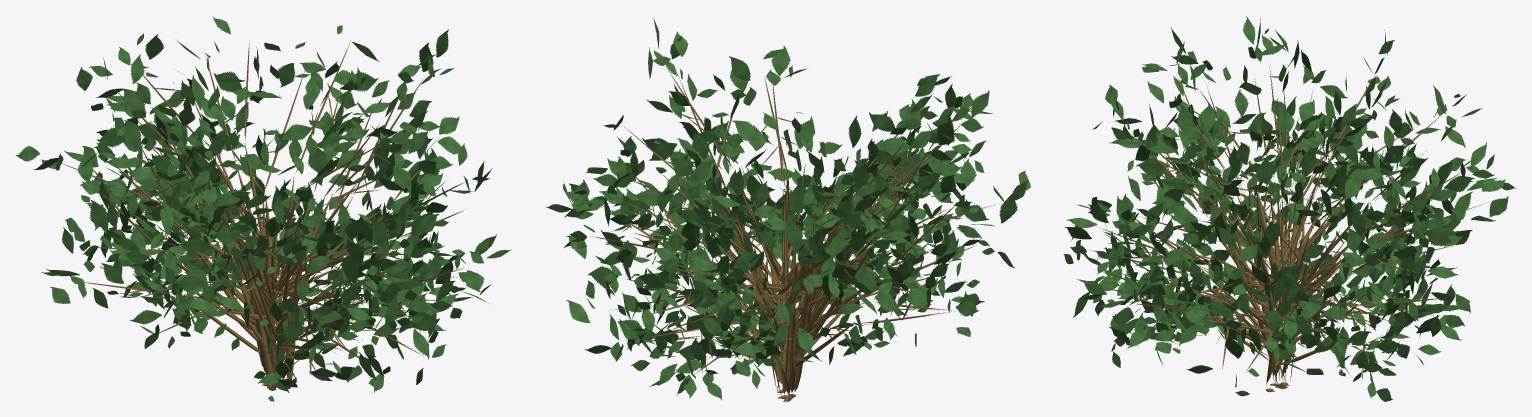
The model's file is SHRUB_05_Woodland_Mixed.glb.
The picture shows the model from 3 angles, left to right: view 1: azimuth 30°, elevation 25°; view 2: azimuth 150°, elevation 25°; view 3: azimuth 270°, elevation 25°; orthographic projection. The views are drawn at different scales.
Visible parts, largest first — view 1: SHRUB_05_Woodland_Mixed__FoliageCards, SHRUB_05_Woodland_Mixed__WoodyStems; view 2: SHRUB_05_Woodland_Mixed__FoliageCards, SHRUB_05_Woodland_Mixed__WoodyStems; view 3: SHRUB_05_Woodland_Mixed__FoliageCards, SHRUB_05_Woodland_Mixed__WoodyStems.
Part boxes in pixels (x1=…): SHRUB_05_Woodland_Mixed__FoliageCards: x1=16, y1=17, x2=511, y2=401; SHRUB_05_Woodland_Mixed__WoodyStems: x1=62, y1=40, x2=467, y2=390; SHRUB_05_Woodland_Mixed__FoliageCards: x1=545, y1=18, x2=1030, y2=400; SHRUB_05_Woodland_Mixed__WoodyStems: x1=589, y1=72, x2=994, y2=401; SHRUB_05_Woodland_Mixed__FoliageCards: x1=1063, y1=16, x2=1515, y2=401; SHRUB_05_Woodland_Mixed__WoodyStems: x1=1089, y1=64, x2=1489, y2=391.
Bounding box in the file's own units: 2.25 × 1.73 × 2.25.
1 material, 1 textured.
